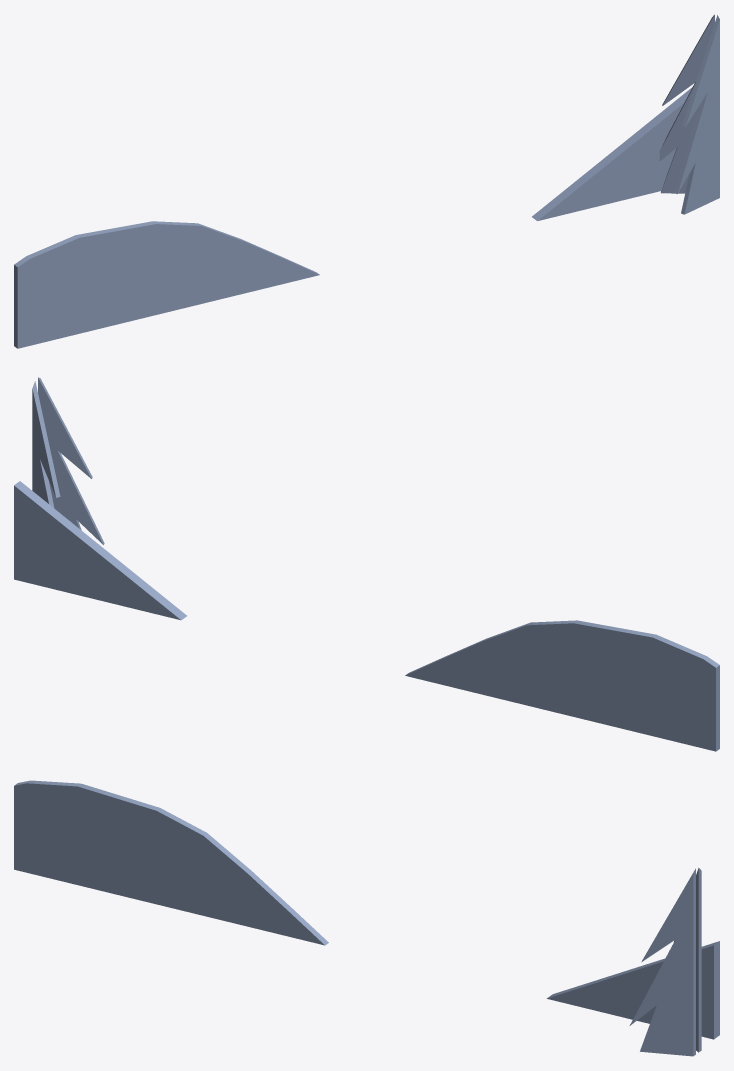
The model's file is frame_0072.glb.
3 views of the same model, one above another, from view 1: azimuth 30°, elevation 25°; view 2: azimuth 150°, elevation 25°; view 3: azimuth 330°, elevation 25° (orthographic). The views are drawn at different scales.
Visible parts, largest first — view 1: export_trees_001.002; view 2: export_trees_001.002; view 3: export_trees_001.002.
Part boxes in pixels (x1,y1,x2,y2): export_trees_001.002: (14, 14, 719, 348); export_trees_001.002: (14, 377, 719, 751); export_trees_001.002: (14, 780, 719, 1056).
Bounding box in the file's own units: 0.4327 × 0.1101 × 0.0393.
